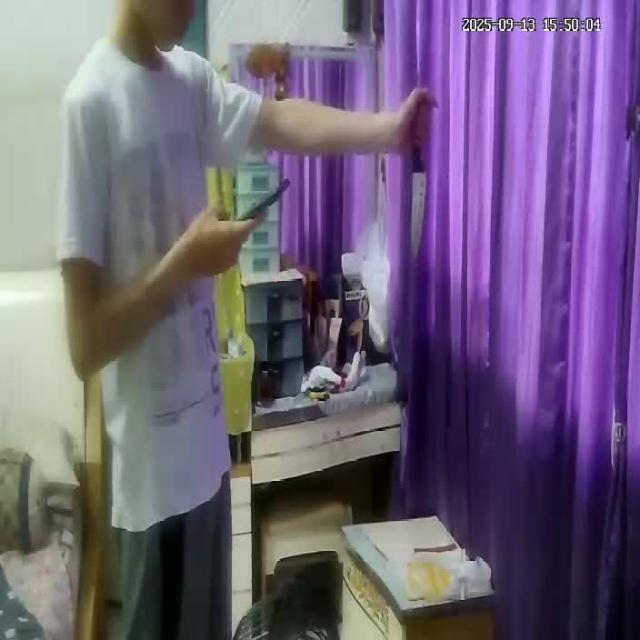senjata_tajam: (407, 154, 428, 260)
